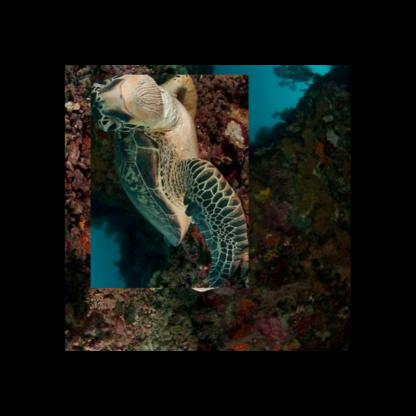turtle: (90, 72, 248, 286)
